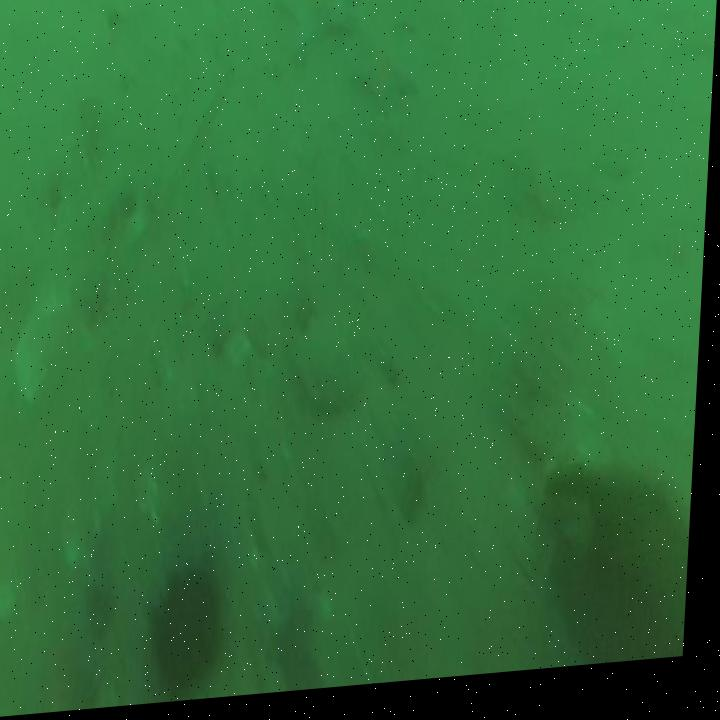echinus: (155, 576, 230, 696)
